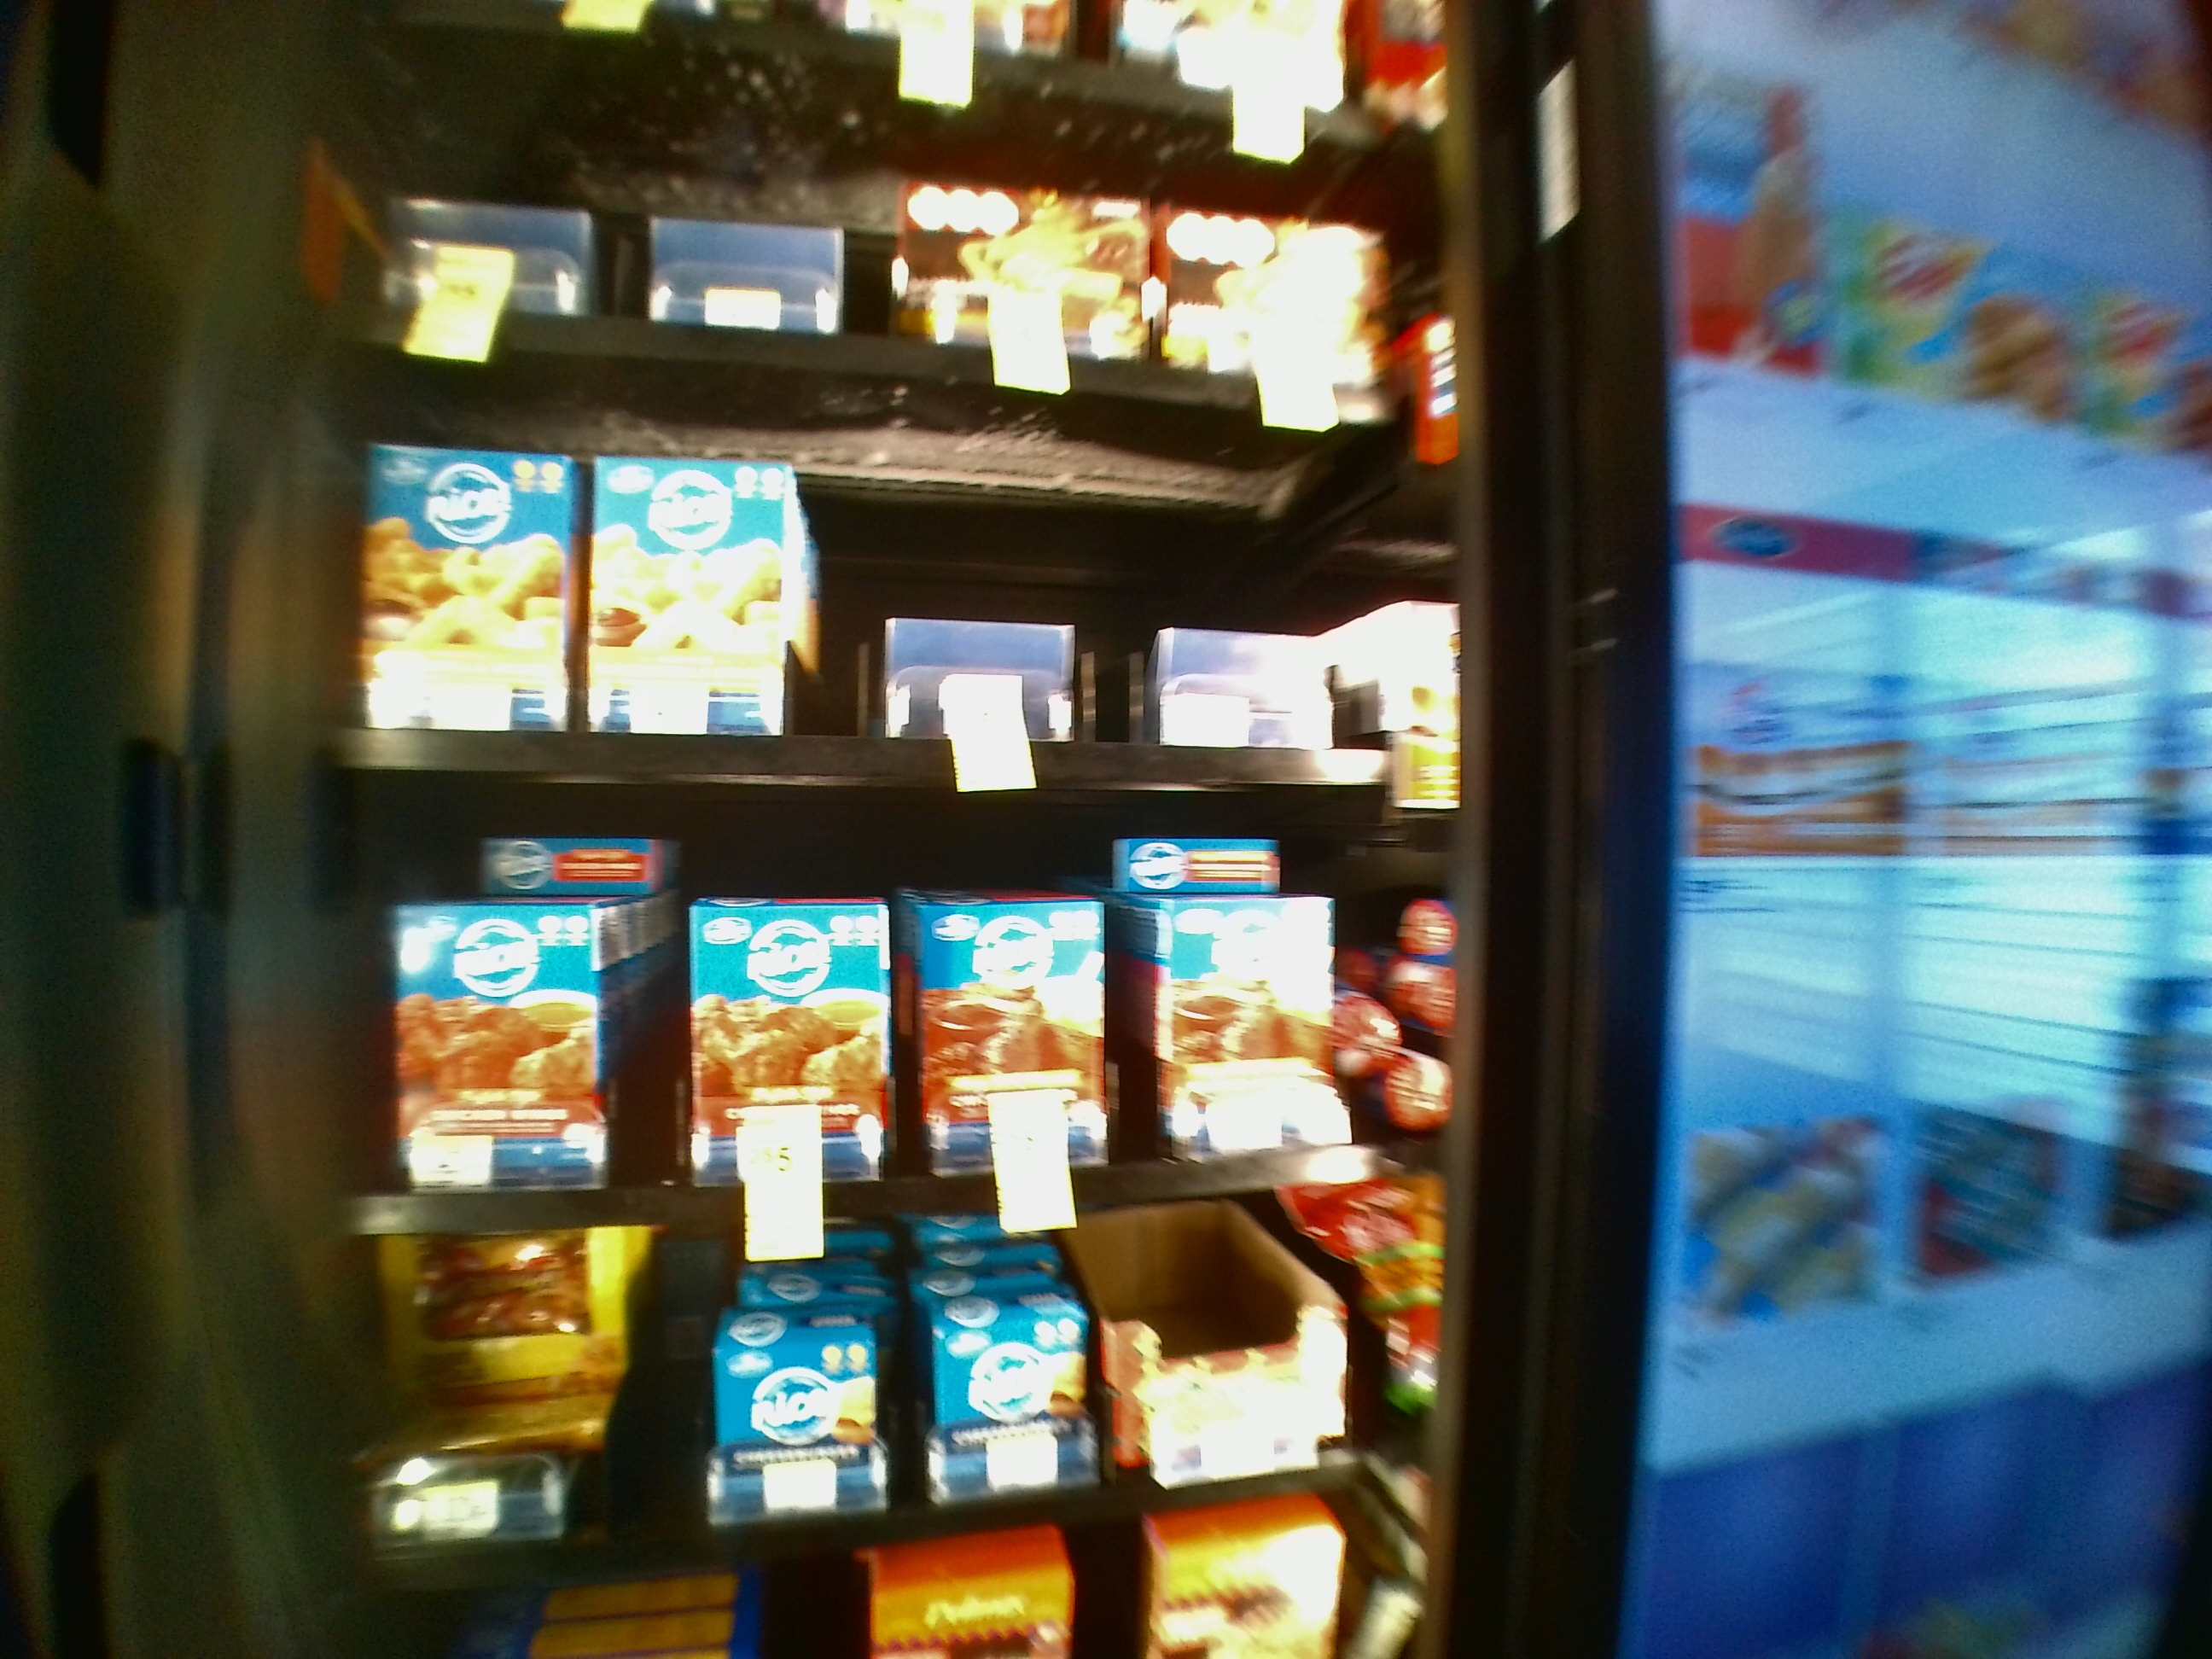shelf: (308, 352, 1453, 788), (310, 798, 1451, 1223)
